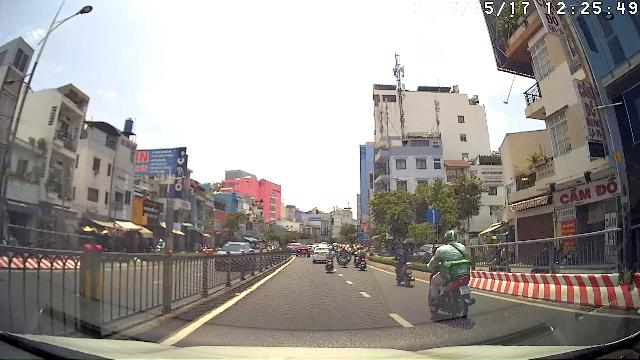301a-cac-xe-chi-duoc-di-thang: (426, 207, 440, 223)
